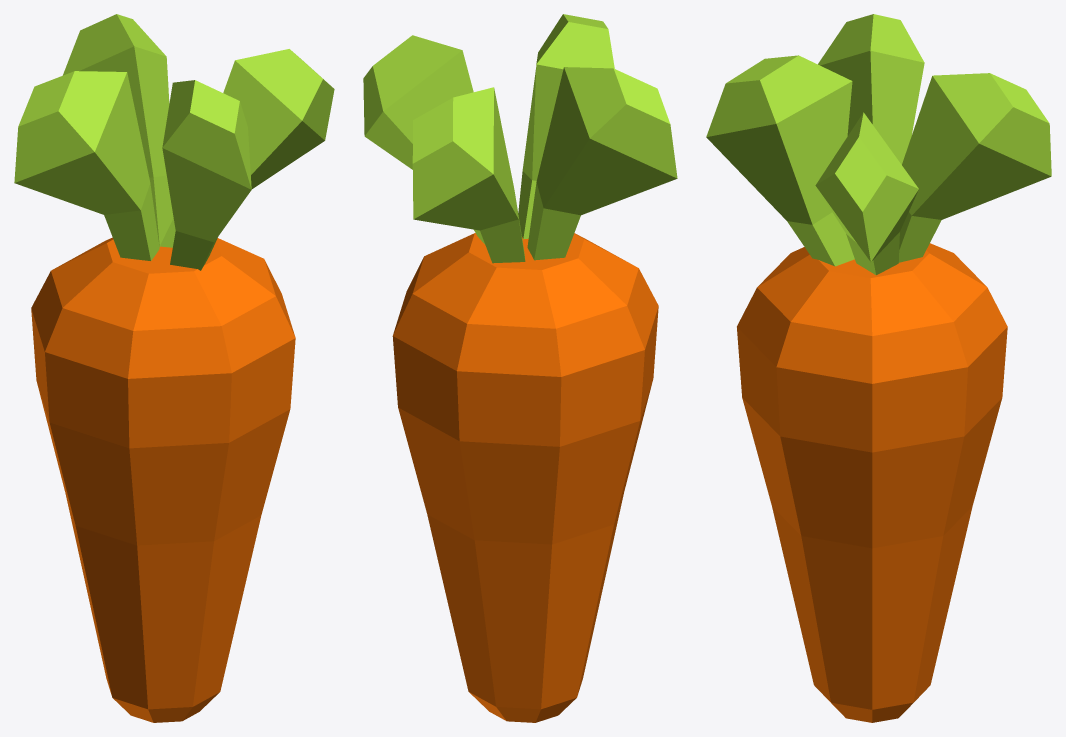
The model's file is carrot.fbx.
The picture shows the model from 3 angles, left to right: view 1: azimuth 30°, elevation 25°; view 2: azimuth 150°, elevation 25°; view 3: azimuth 270°, elevation 25°; orthographic projection.
Visible parts, largest first — view 1: Circle; view 2: Circle; view 3: Circle.
Boxes of the visible parts, box(x1,y1,x2,y2) form: Circle: box(14, 14, 334, 722); Circle: box(363, 14, 677, 722); Circle: box(706, 14, 1051, 722).
Size of the model in its own units: 271 by 538 by 259.
